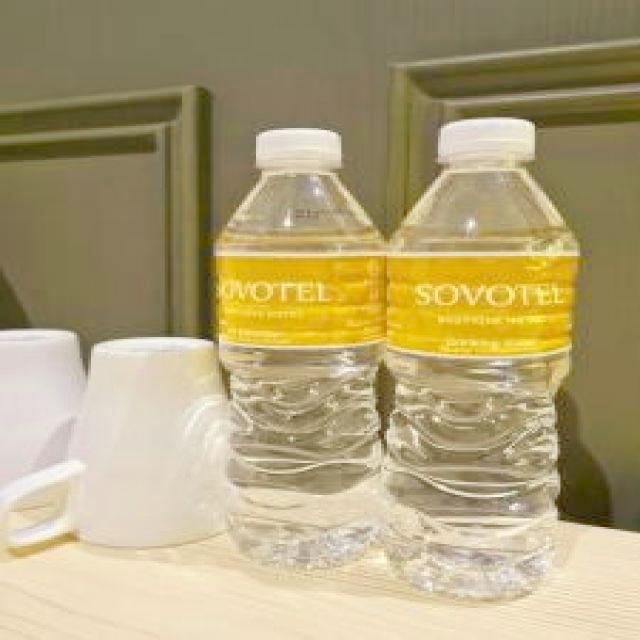bottle: (386, 117, 580, 602), (214, 127, 386, 571)
